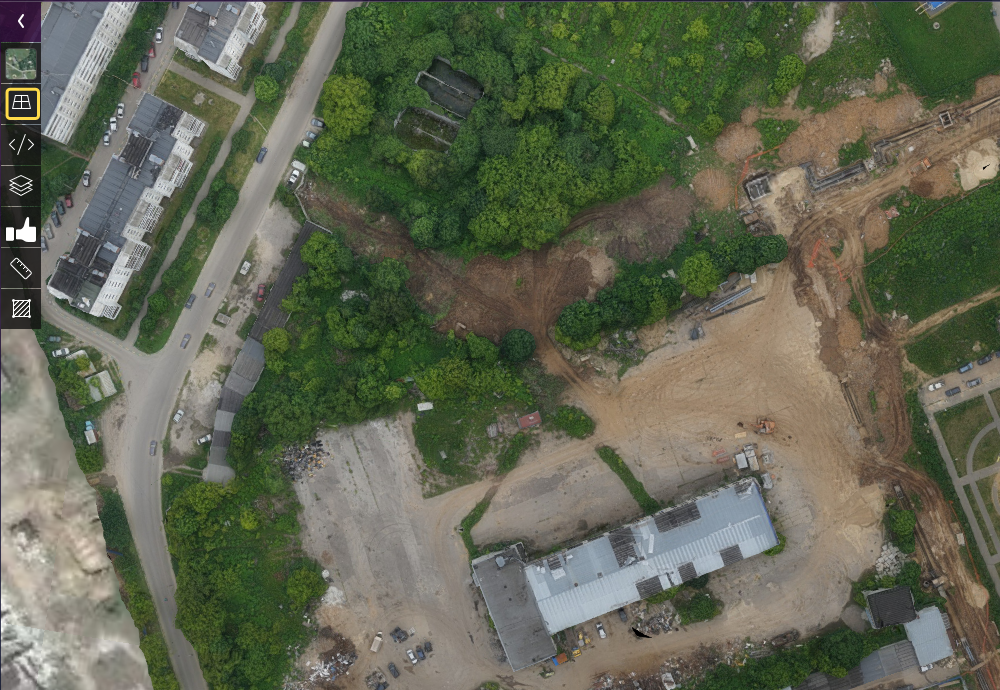build: (472, 469, 782, 672), (196, 219, 339, 482), (48, 89, 209, 319), (39, 1, 141, 146), (174, 1, 280, 79)
